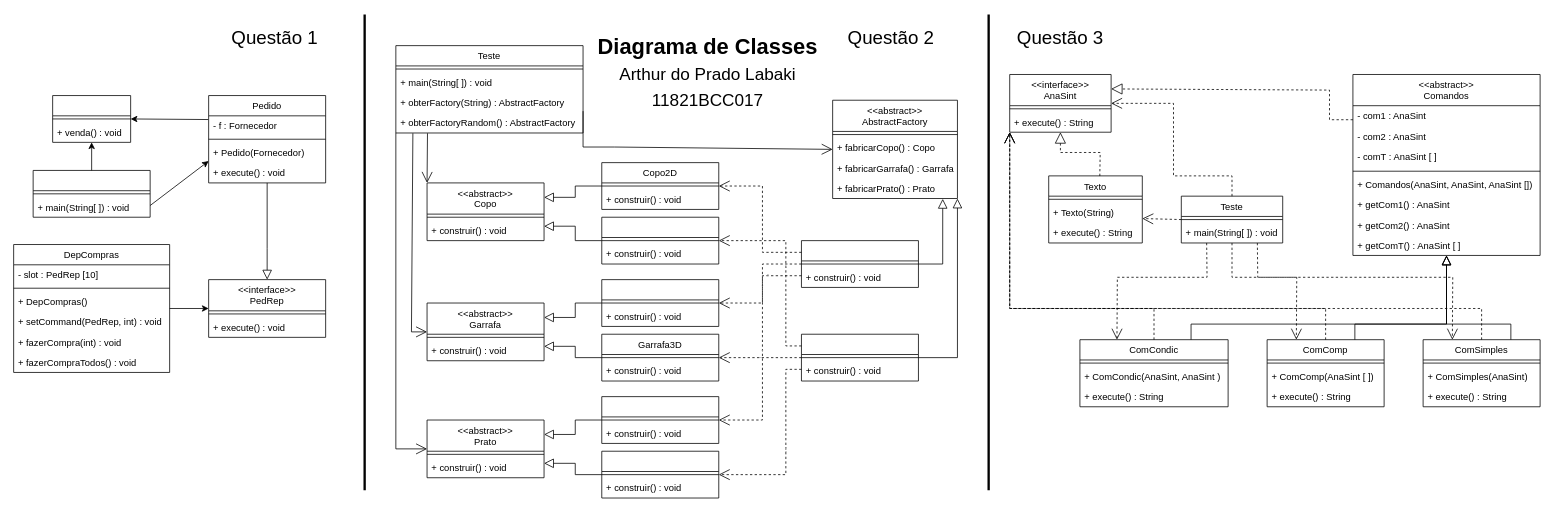
This 1554x514 diagram has some shape labels left out. The shapes that lost their labels are listed below. From the top down, each one's box as (x1, y1, x2, y2) in pixels, then its label:
(52, 95, 131, 142): Fornecedor
(32, 170, 150, 217): Cliente
(601, 216, 719, 264): Copo3D
(801, 240, 918, 287): Factory2D
(601, 279, 719, 326): Garrafa2D
(801, 333, 918, 381): Factory3D
(601, 396, 719, 443): Prato2D
(601, 450, 719, 498): Prato3D
